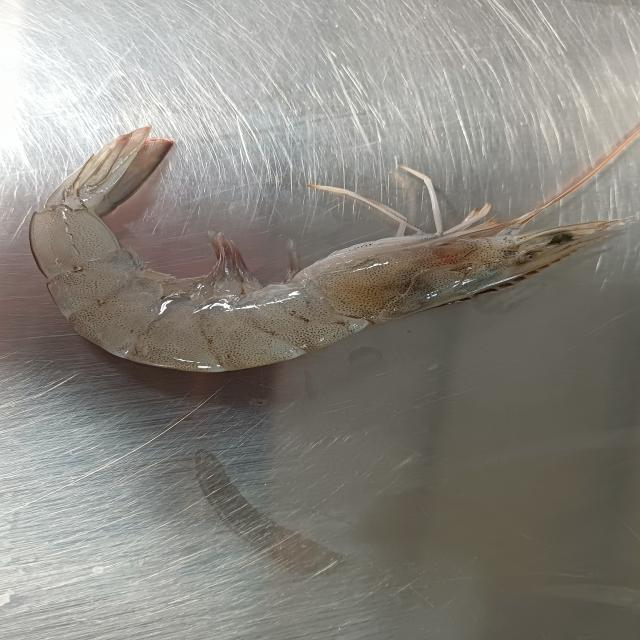shrimp: (29, 125, 634, 374)
